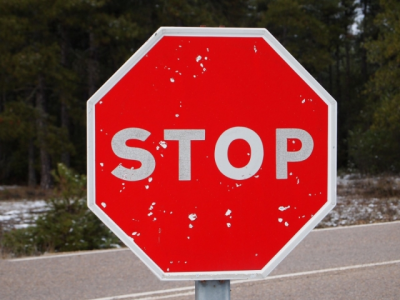stop: (99, 52, 323, 261)
